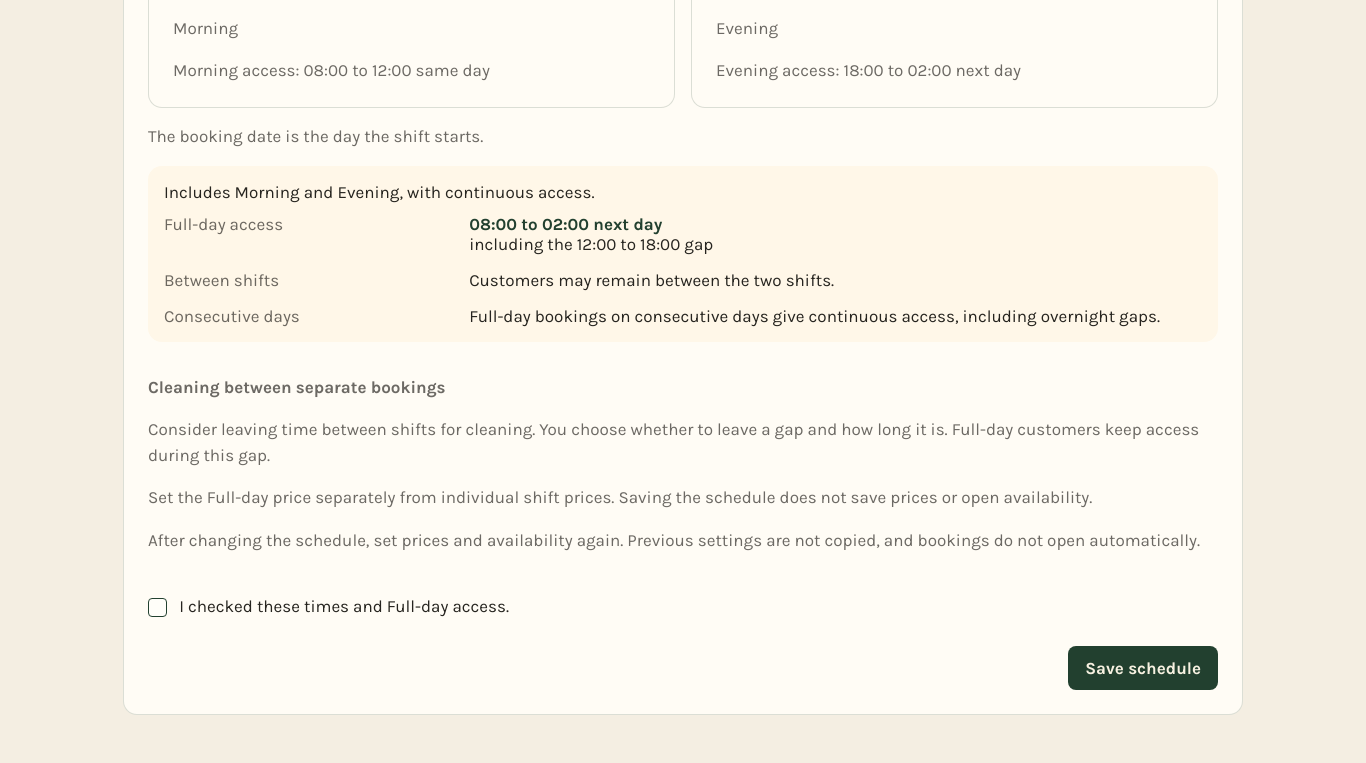
Test: Cottage Shift Schedule editor › committed refusals stay honest and a conflict requires reload
(page scrolled)
Step 1. Click the checkbox → (158,608), box [148,598,167,618]
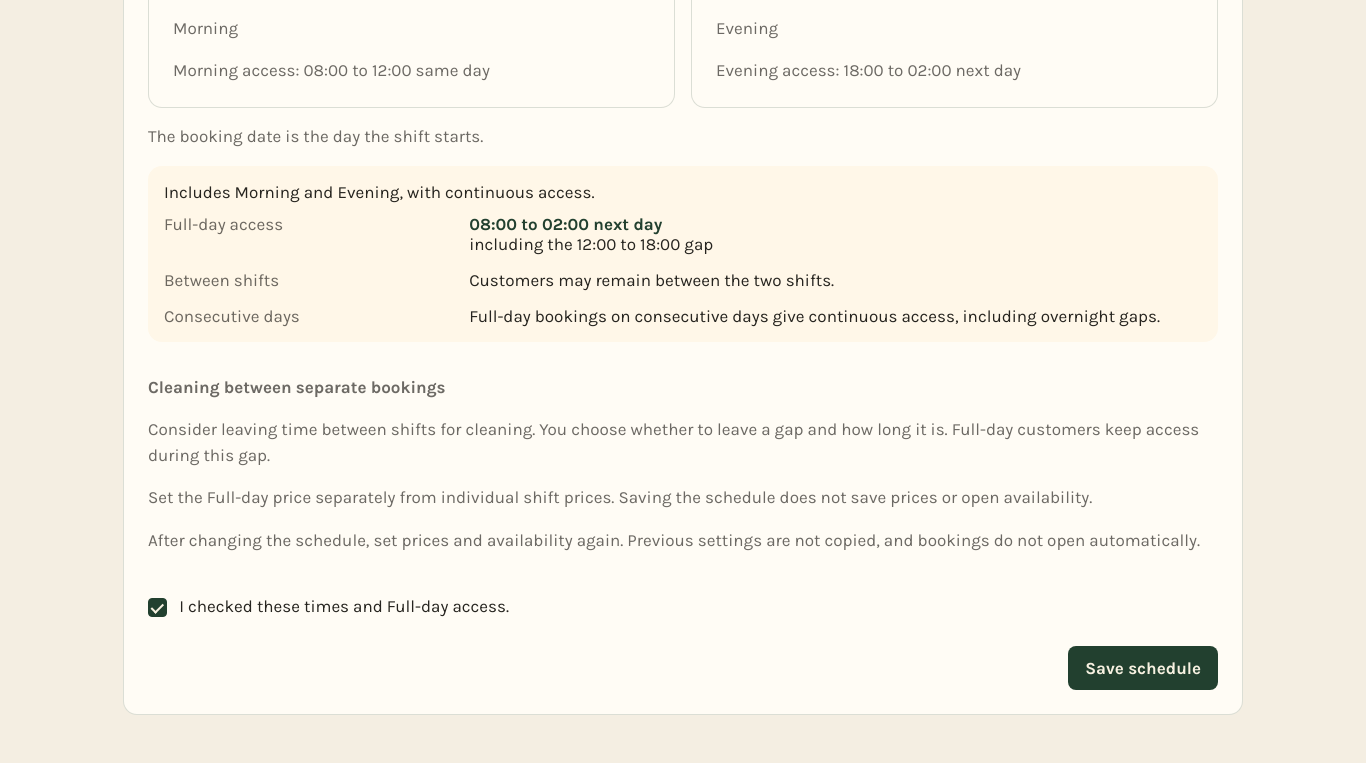
Step 2. Click the button "Save schedule" → (1143,668), box [1068,646,1218,690]
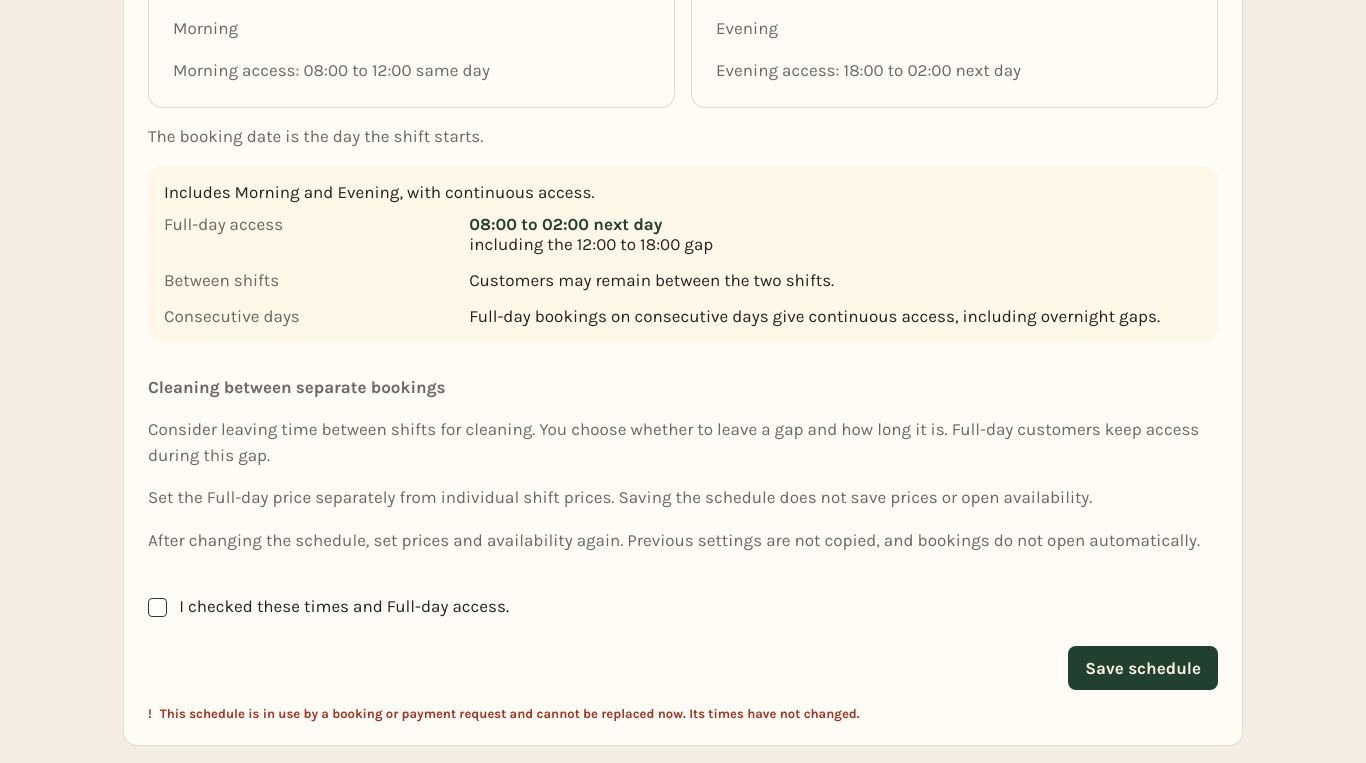
Check: the checkbox is not checked
Check: the 2nd message shows "This schedule is in use by a booking or payment request and cannot be replaced now. Its times have not changed.", box [160,706,860,721]
Step 3. Click the checkbox → (158,608), box [148,598,167,618]
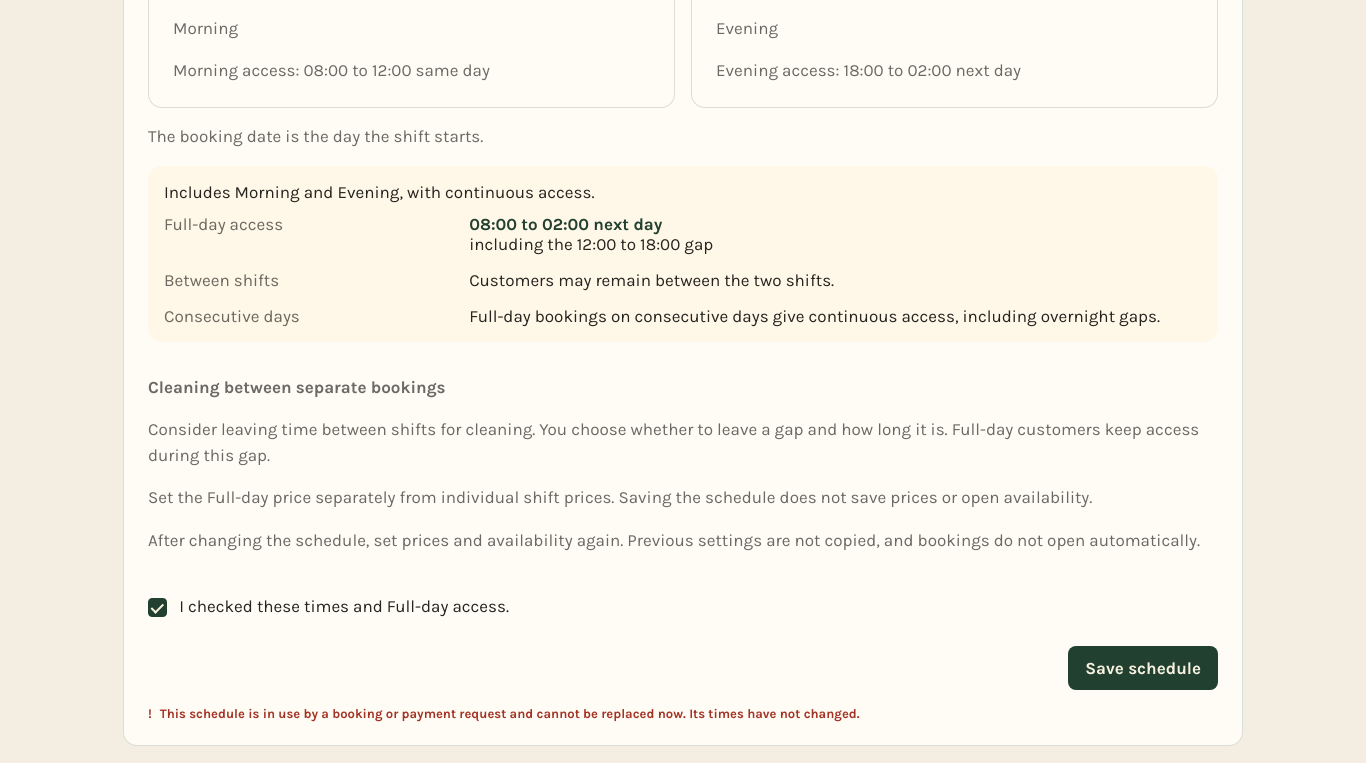
Step 4. Click the button "Save schedule" → (1143,668), box [1068,646,1218,690]
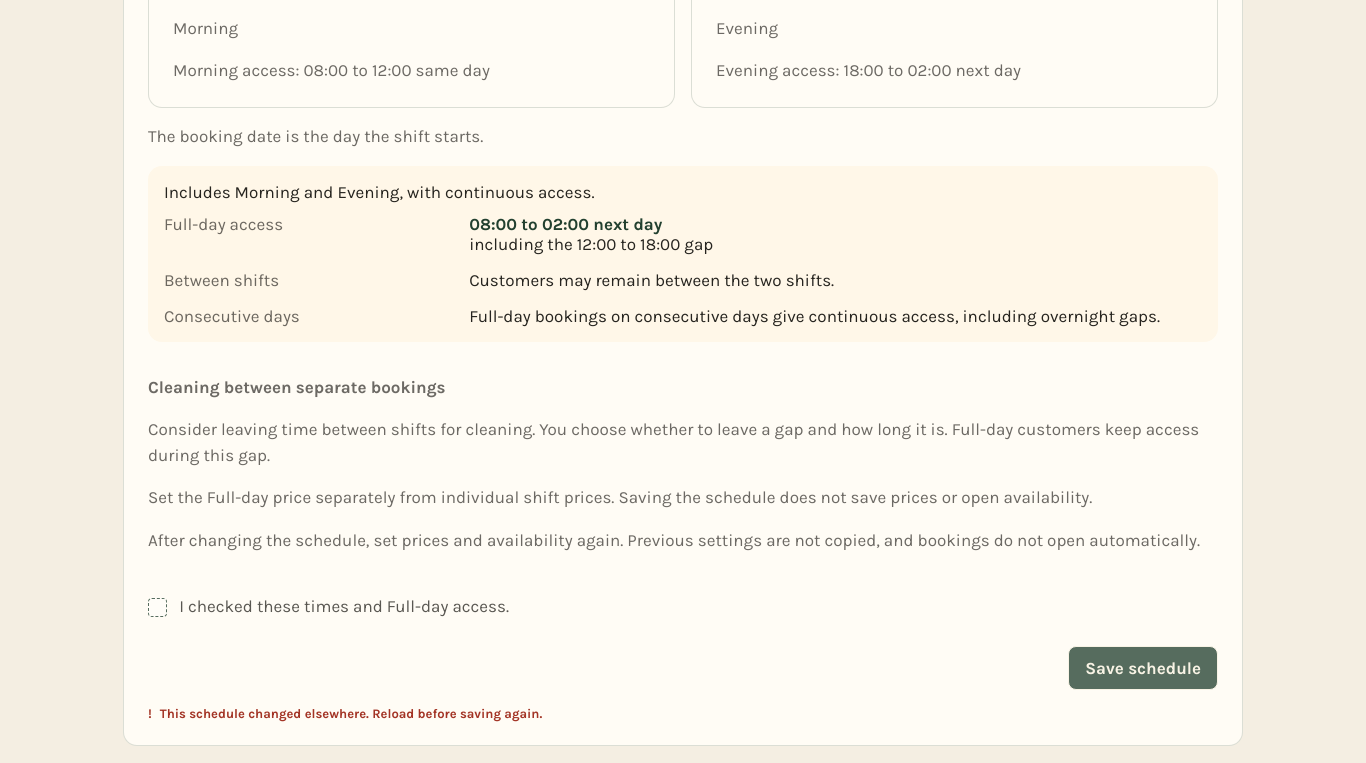
Check: the message "! This schedule changed elsewhere. Reload before saving again." is shown, box [148,706,542,721]
Check: the button is disabled, box [1068,646,1218,690]
Check: the checkbox is disabled, box [148,598,167,618]
